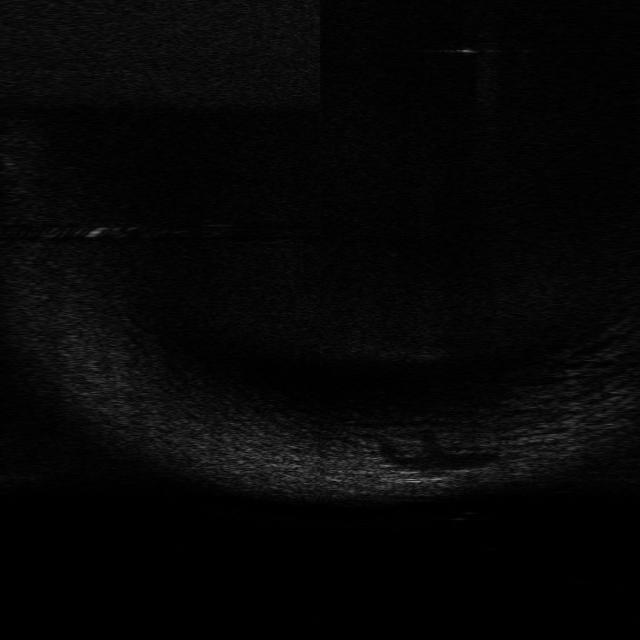plane: (384, 466, 480, 488)
